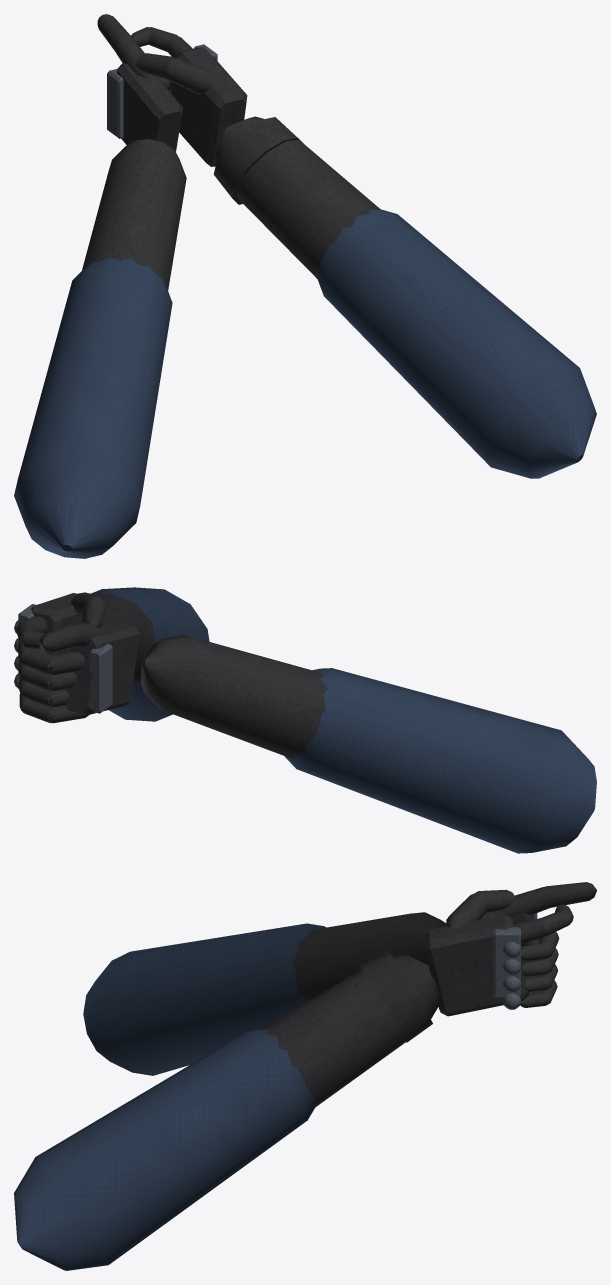
File: fp_hands_ct_pistol.glb
3 views of the same model, one above another, from view 1: azimuth 30°, elevation 25°; view 2: azimuth 150°, elevation 25°; view 3: azimuth 270°, elevation 25° (orthographic). The views are drawn at different scales.
Visible parts, largest first — view 1: WeaponRoot; view 2: WeaponRoot; view 3: WeaponRoot.
Boxes of the visible parts, left/top/right/bottom form: WeaponRoot: left=14, top=14, right=596, bottom=558; WeaponRoot: left=14, top=587, right=596, bottom=853; WeaponRoot: left=14, top=882, right=596, bottom=1270.
Size of the model in its own units: 0.4745 by 0.2654 by 0.4611.
Materials: 3 (3 with a texture image).
